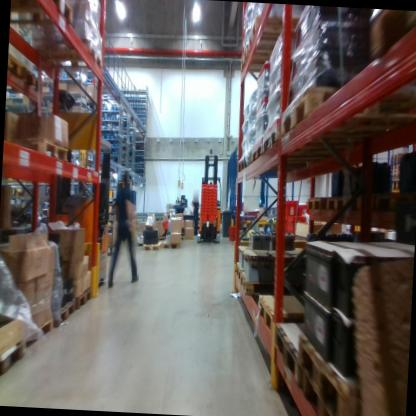forklift: (44, 100, 123, 290), (195, 150, 225, 243)
pallet: (280, 81, 416, 160), (262, 111, 407, 176), (292, 328, 378, 416), (2, 132, 75, 178), (255, 289, 321, 338), (361, 8, 416, 65), (234, 154, 325, 185), (240, 263, 315, 299), (297, 375, 356, 416), (353, 180, 407, 224), (9, 0, 77, 34), (271, 315, 302, 386), (37, 40, 105, 70), (5, 64, 45, 105), (0, 339, 28, 390), (322, 185, 354, 218), (18, 319, 49, 353), (52, 295, 74, 330), (9, 47, 26, 82), (245, 134, 264, 163), (74, 287, 93, 316), (303, 191, 323, 216), (141, 236, 164, 256), (233, 263, 244, 292), (162, 236, 182, 250), (135, 235, 144, 245)
small_load_carrier: (287, 211, 310, 237), (281, 199, 299, 220), (296, 202, 309, 217), (198, 209, 208, 224), (160, 219, 169, 234), (207, 211, 218, 223)
